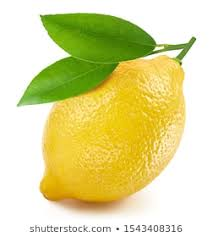lemon: (20, 29, 205, 227)
